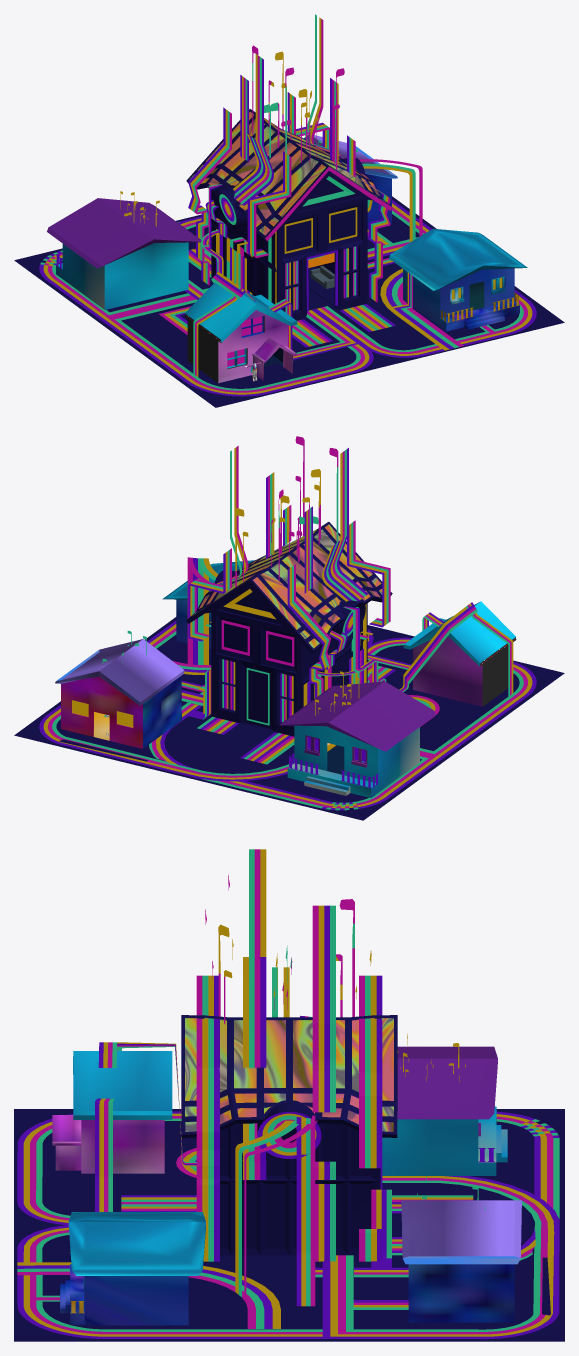
The model's file is house_sin_collider.glb.
3 views of the same model, one above another, from view 1: azimuth 30°, elevation 25°; view 2: azimuth 150°, elevation 25°; view 3: azimuth 270°, elevation 25° (orthographic). The views are drawn at different scales.
Visible parts, largest first — view 1: Big house, Plane, 03. Yellow_house, 04. Blue_house, Plane.003, 02. Green_house, Plane.002, Cube.028, nota.010, Cube.021, Cube.030, 01. Pink_house (+5 smaller); view 2: Big house, Plane, 03. Yellow_house, 01. Pink_house, Plane.003, 02. Green_house, Plane.002, Cube.028, nota.010, Cube.021, Cube.029, Cube.033 (+4 smaller); view 3: Plane, Big house, Plane.002, 04. Blue_house, Plane.003, 01. Pink_house, 03. Yellow_house, 02. Green_house, Cube.032, Cube.030, Cube.033, Cube.031 (+4 smaller).
Boxes of the visible parts, bbox=[...] form: Big house: bbox=[186, 109, 395, 347]; Plane: bbox=[14, 196, 564, 407]; 03. Yellow_house: bbox=[47, 198, 201, 309]; 04. Blue_house: bbox=[389, 228, 527, 331]; Plane.003: bbox=[39, 157, 394, 396]; 02. Green_house: bbox=[185, 283, 297, 383]; Plane.002: bbox=[159, 159, 536, 357]; Cube.028: bbox=[230, 54, 273, 294]; nota.010: bbox=[252, 45, 344, 170]; Cube.021: bbox=[188, 107, 231, 285]; Cube.030: bbox=[347, 135, 390, 302]; 01. Pink_house: bbox=[304, 134, 397, 229]; Big house: bbox=[186, 522, 395, 764]; Plane: bbox=[14, 617, 564, 820]; 03. Yellow_house: bbox=[279, 681, 435, 797]; 01. Pink_house: bbox=[55, 639, 184, 748]; Plane.003: bbox=[149, 582, 536, 810]; 02. Green_house: bbox=[403, 601, 516, 706]; Plane.002: bbox=[39, 557, 439, 781]; Cube.028: bbox=[322, 448, 373, 684]; nota.010: bbox=[235, 436, 338, 587]; Cube.021: bbox=[287, 564, 331, 698]; Cube.029: bbox=[347, 520, 390, 682]; Cube.033: bbox=[188, 548, 231, 713]; Plane: bbox=[14, 1109, 564, 1341]; Big house: bbox=[121, 1015, 473, 1255]; Plane.002: bbox=[17, 1120, 559, 1339]; 04. Blue_house: bbox=[60, 1212, 205, 1325]; Plane.003: bbox=[17, 1015, 559, 1306]; 01. Pink_house: bbox=[401, 1200, 521, 1322]; 03. Yellow_house: bbox=[382, 1046, 507, 1175]; 02. Green_house: bbox=[52, 1051, 172, 1173]; Cube.032: bbox=[312, 905, 335, 1261]; Cube.030: bbox=[196, 1018, 219, 1261]; Cube.033: bbox=[359, 1018, 382, 1261]; Cube.031: bbox=[242, 957, 266, 1179].
Size of what is drawn, in the model's own units: 32 by 22.53 by 32.
Materials: 18 (3 with a texture image).
